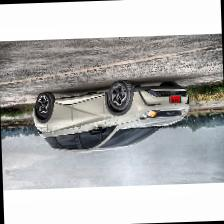EV: (33, 82, 192, 154)
